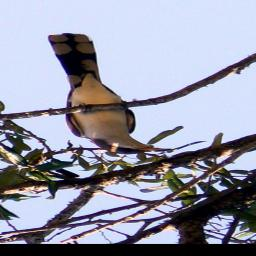Cuckoo: (42, 30, 172, 155)
